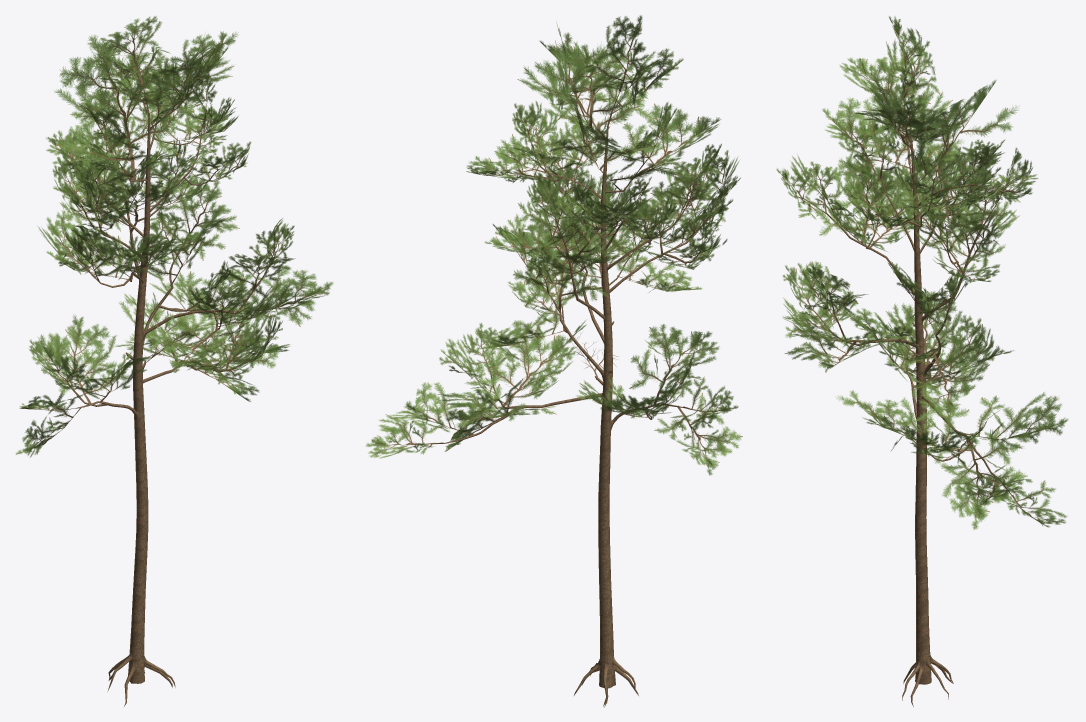
Rendered from pine-medium_1-lod0.gltf.
3 renders of one model, left to right at view 1: azimuth 30°, elevation 25°; view 2: azimuth 150°, elevation 25°; view 3: azimuth 270°, elevation 25°, orthographic. The views are drawn at different scales.
Visible parts, largest first — view 1: Pine_medium_1_LOD0_Clusters_Mat_0, Pine_medium_1_LOD0_Bark_Mat_0; view 2: Pine_medium_1_LOD0_Clusters_Mat_0, Pine_medium_1_LOD0_Bark_Mat_0; view 3: Pine_medium_1_LOD0_Clusters_Mat_0, Pine_medium_1_LOD0_Bark_Mat_0.
Boxes of the visible parts, left/top/right/bottom form: Pine_medium_1_LOD0_Clusters_Mat_0: left=16, top=16, right=333, bottom=457; Pine_medium_1_LOD0_Bark_Mat_0: left=76, top=84, right=264, bottom=706; Pine_medium_1_LOD0_Clusters_Mat_0: left=366, top=15, right=742, bottom=475; Pine_medium_1_LOD0_Bark_Mat_0: left=443, top=92, right=711, bottom=707; Pine_medium_1_LOD0_Clusters_Mat_0: left=776, top=16, right=1068, bottom=529; Pine_medium_1_LOD0_Bark_Mat_0: left=817, top=95, right=1011, bottom=706.
Size of the model in its own units: 6.63 by 13.92 by 5.57.
Materials: 2 (2 with a texture image).
